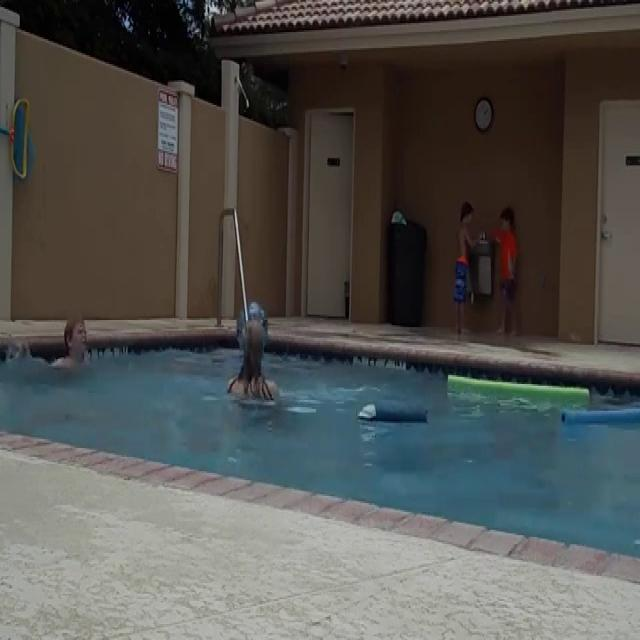adult: (225, 302, 279, 406)
child: (453, 193, 485, 340), (48, 314, 104, 376), (496, 205, 520, 339)
